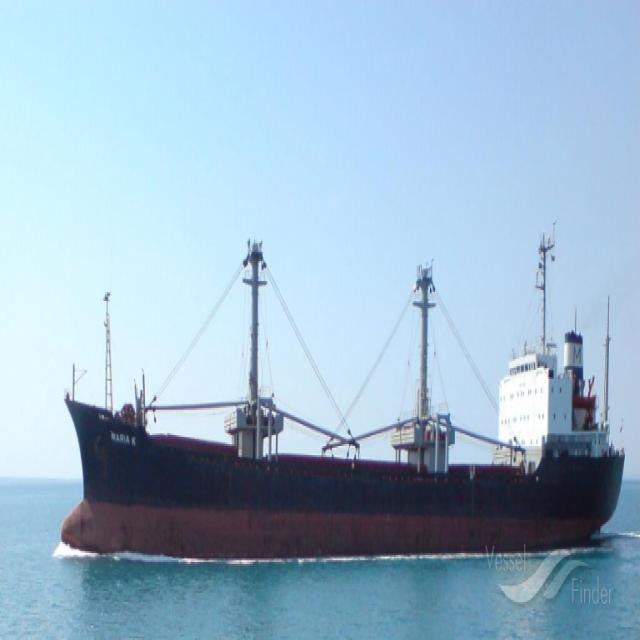OCR: (105, 422, 139, 450)
